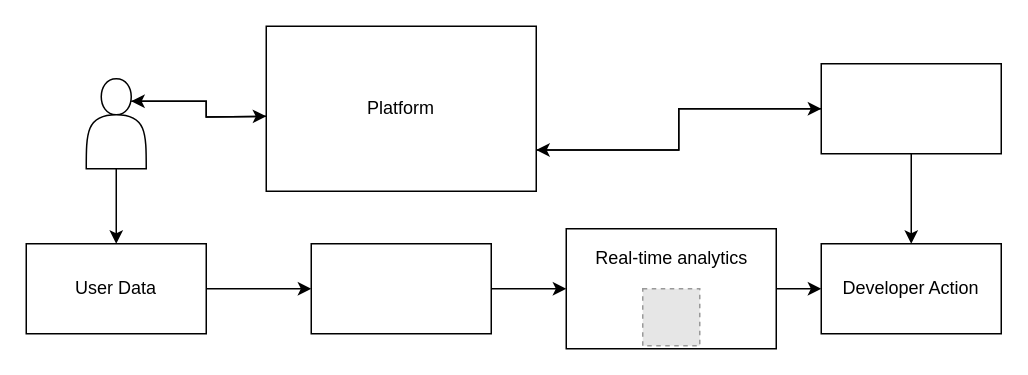
The diagram is 1028 pixels wide and 375 high, and some of its shapes have lost their labels. Grey dashed boxes stand in for pictures. Here are the shapes that lost their labels. From the top down, the centre of each, then its label:
At [910,108]: "Developer".
At [400,288]: "Platform Data".
